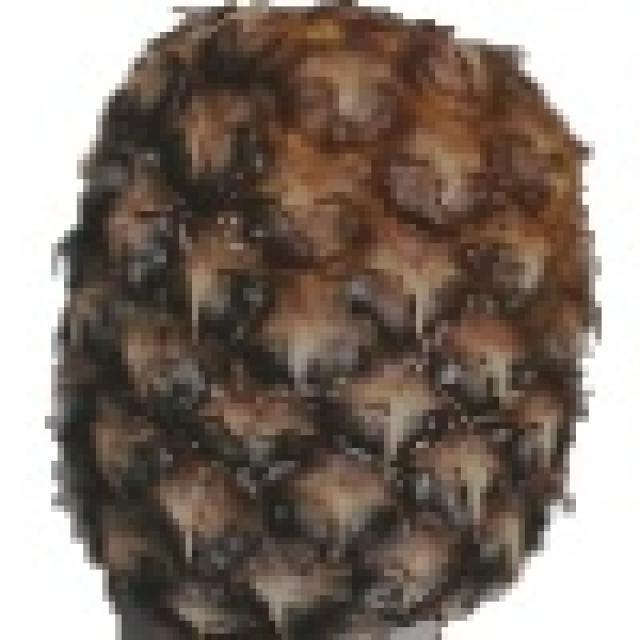pineapple: (54, 0, 595, 640)
